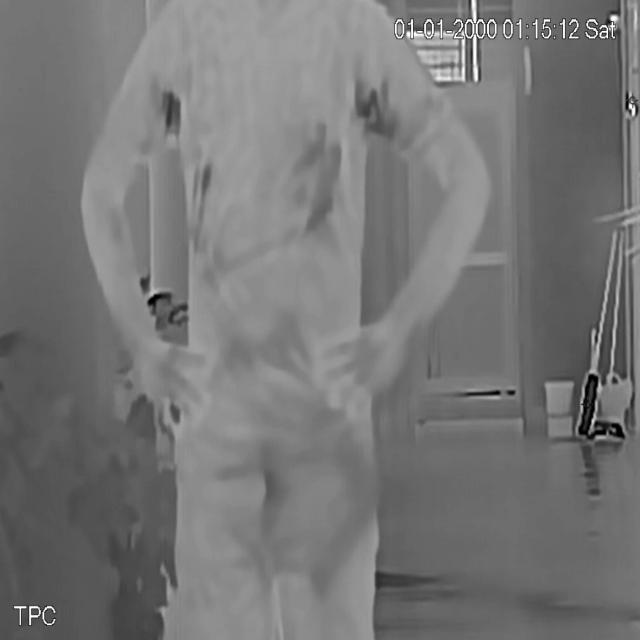Weapon: (307, 431, 390, 602)
